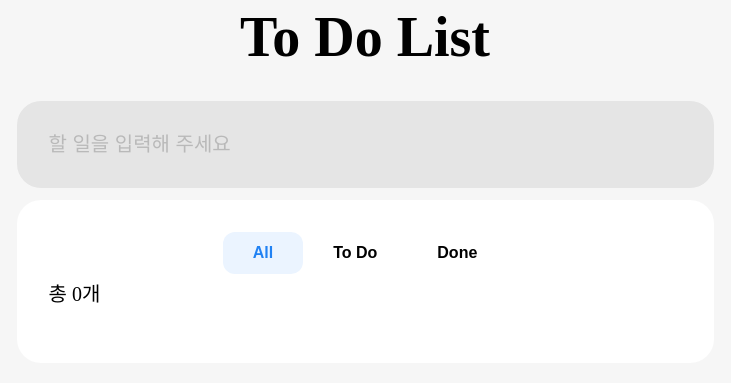
TodoUserListPage › add todo item
The width and height of the screenshot is (731, 390).
Step 1. Type "New Todo" into the field with placeholder "할 일을 입력해 주세요" → [365, 144], box [16,101,714,188]
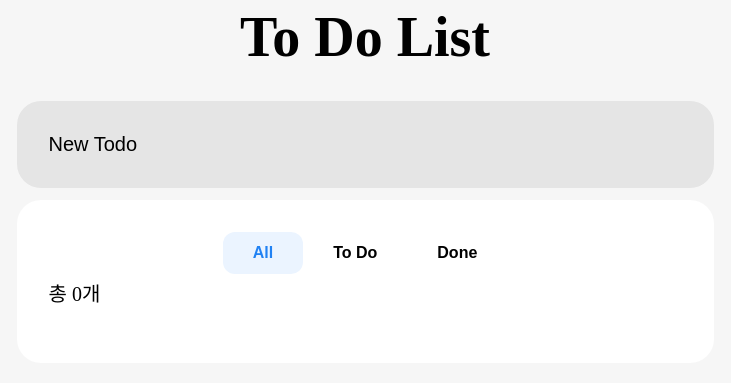
Step 2. Submit the form from the field with placeholder "할 일을 입력해 주세요", box [16,101,714,188]
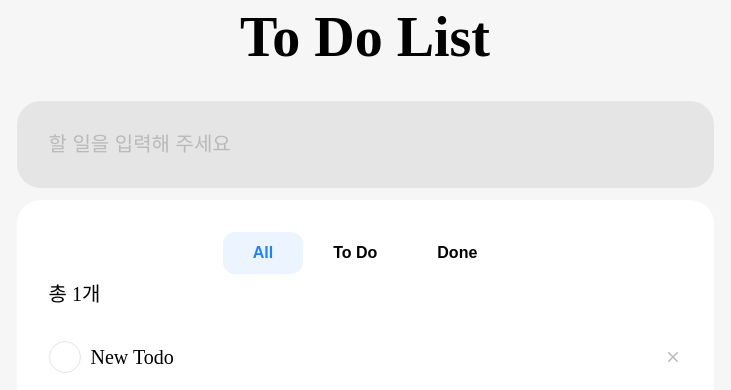
Expected: the text "New Todo" is shown, [90,346,174,368]
